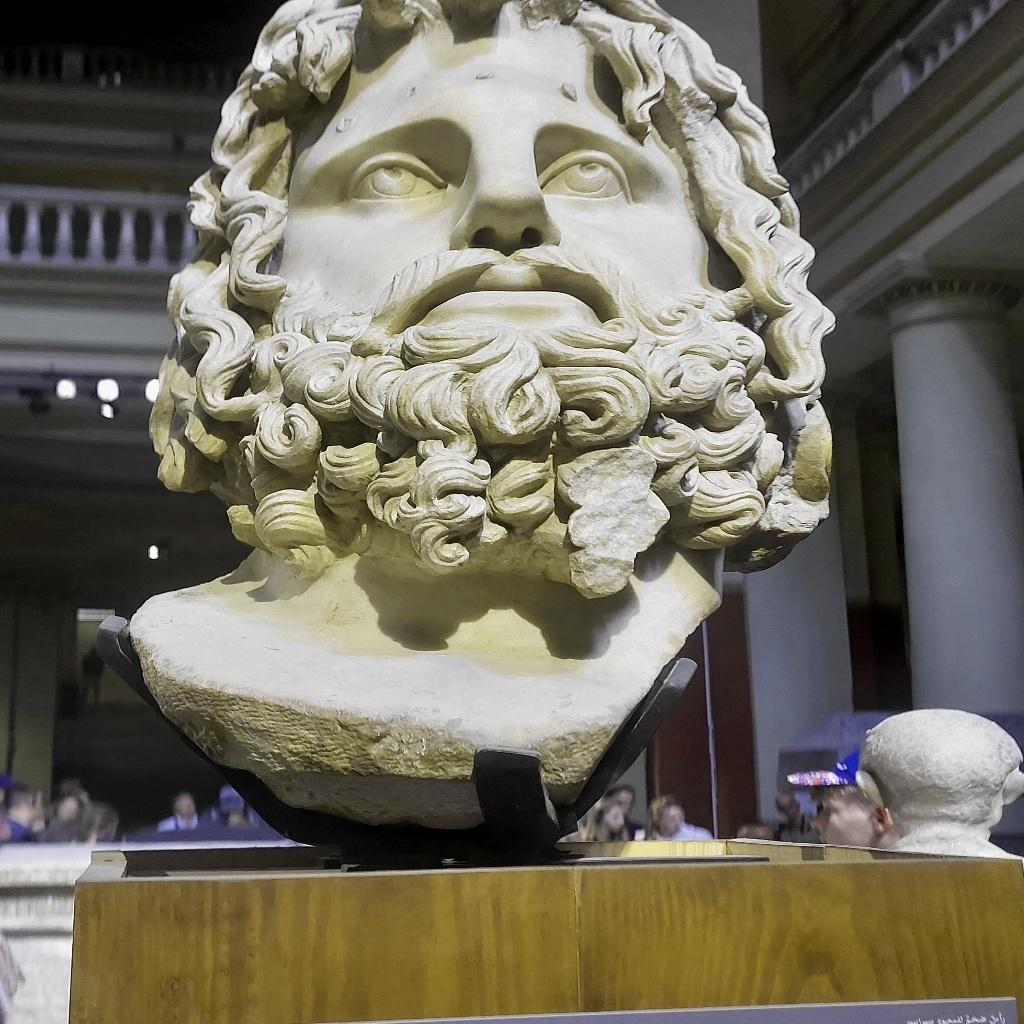Clossal Head of the god Serapis: (132, 0, 842, 731)
